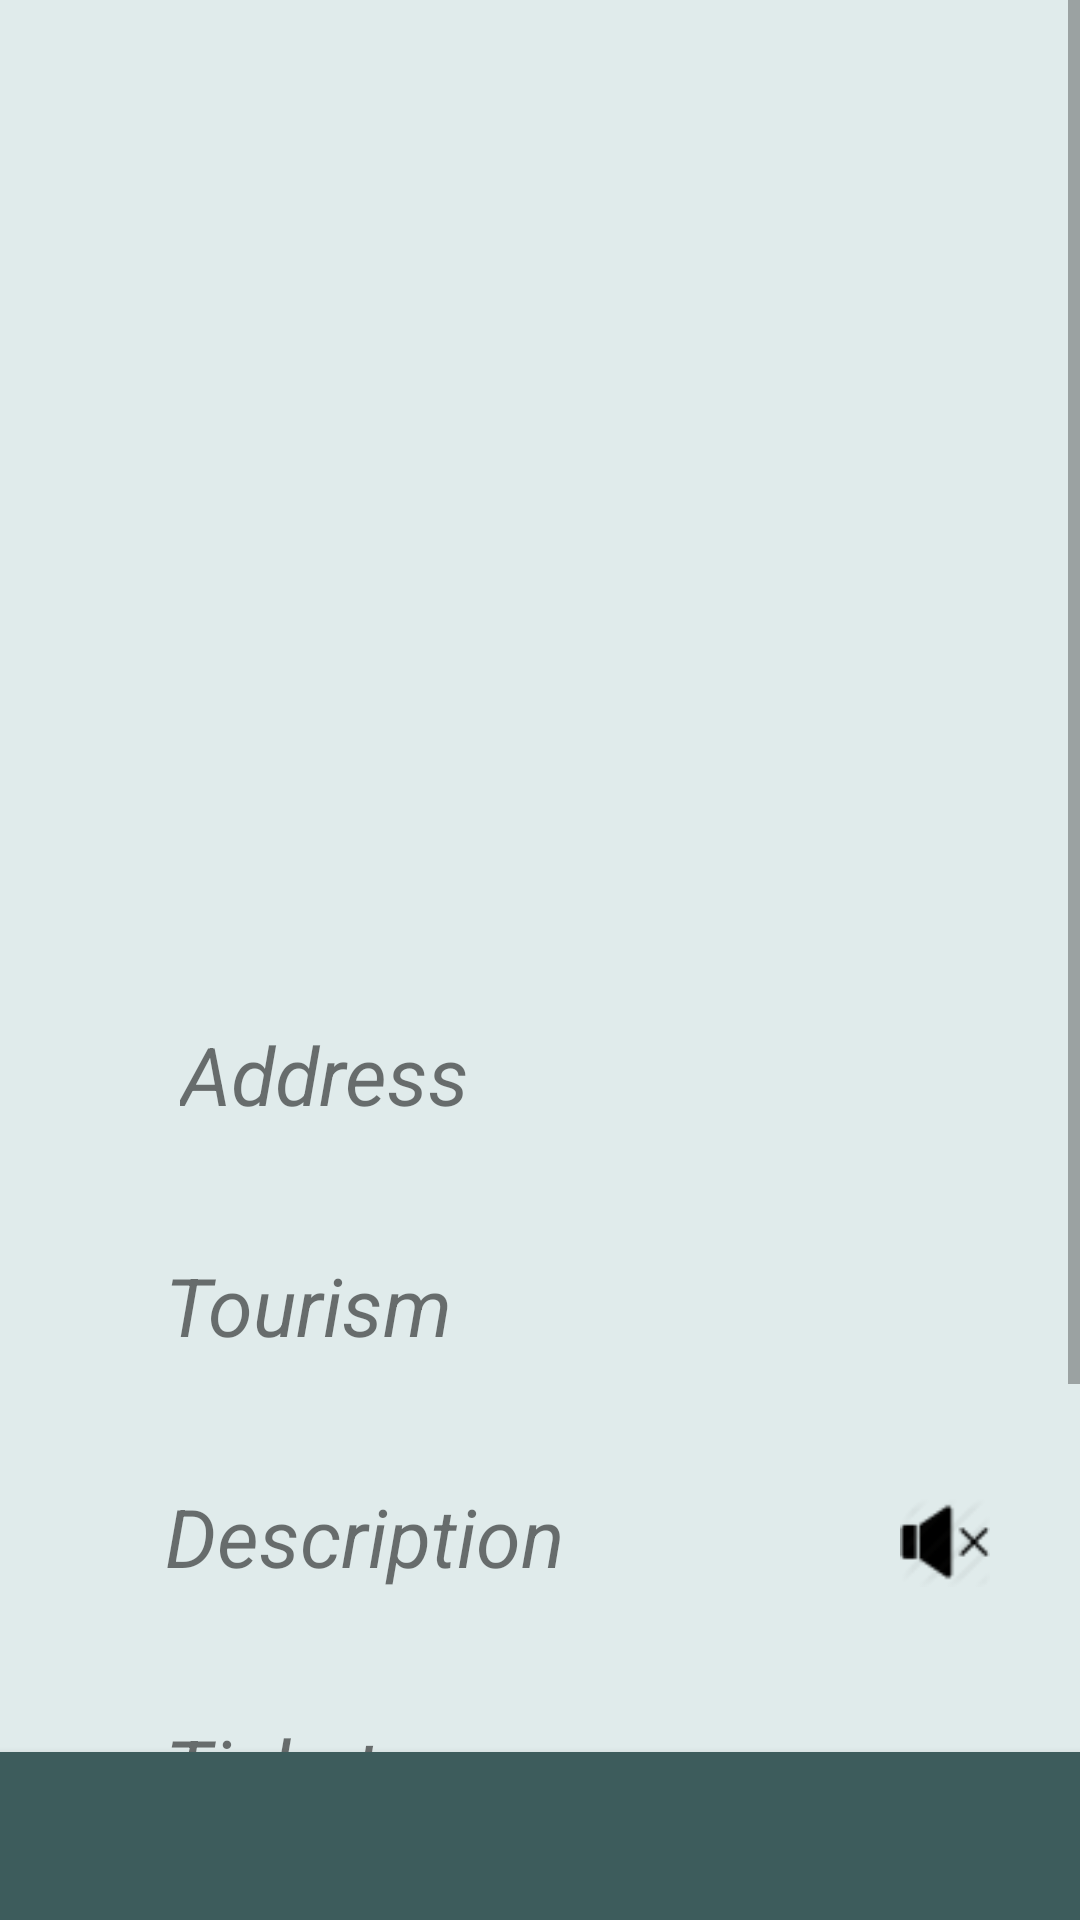

Icon click points for this 1080x1920 phone screenshot, format point (x, y):
mute: point (945, 1541)
